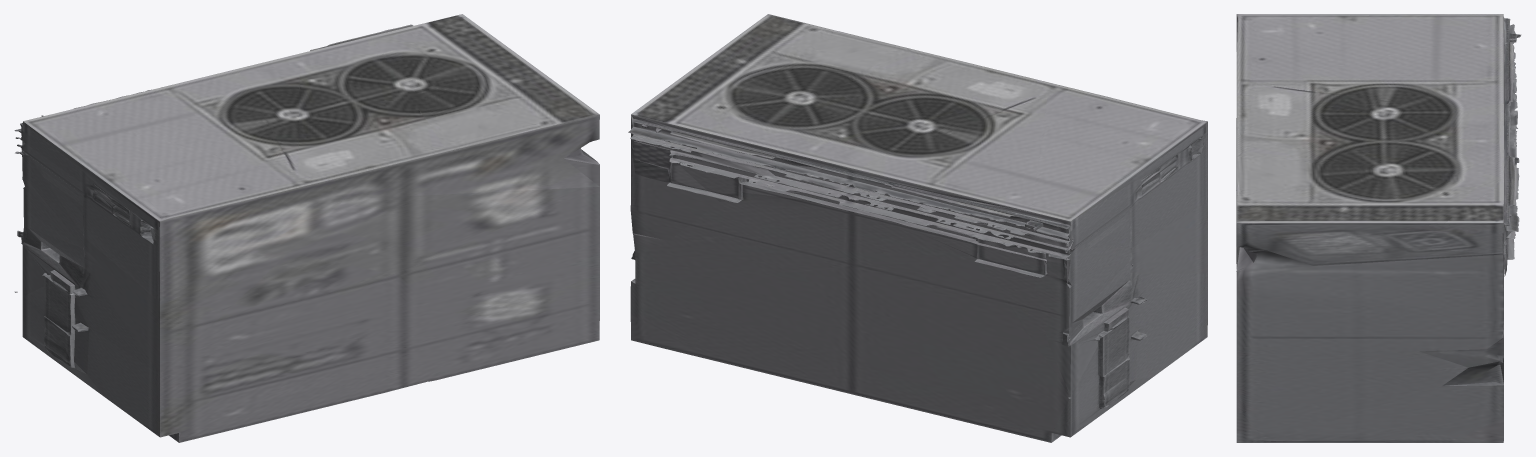
File: roof-condenser.glb
3 views of the same model, side by side, from view 1: azimuth 30°, elevation 25°; view 2: azimuth 150°, elevation 25°; view 3: azimuth 270°, elevation 25° (orthographic). The views are drawn at different scales.
Visible parts, largest first — view 1: Mesh_0; view 2: Mesh_0; view 3: Mesh_0.
Boxes of the visible parts, <box> form: Mesh_0: <box>14,14,599,442</box>; Mesh_0: <box>628,14,1207,442</box>; Mesh_0: <box>1236,14,1521,442</box>.
Size of the model in its own units: 2.4 by 1.15 by 1.35.
1 material, 1 textured.
